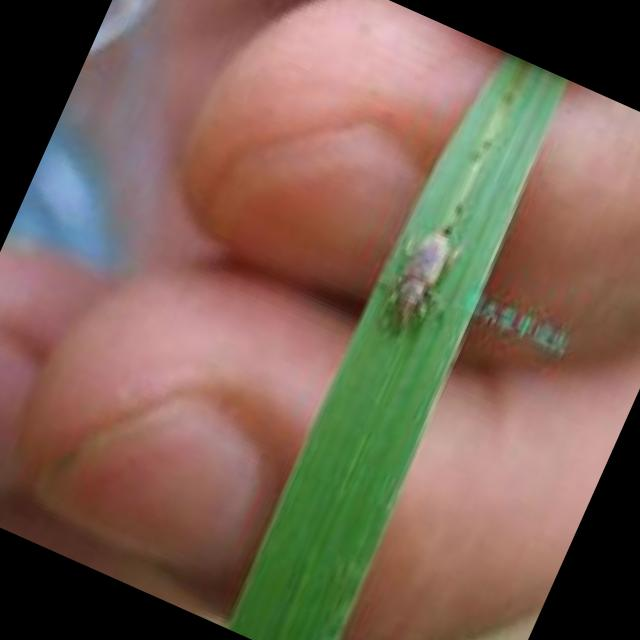rice-bug: (374, 216, 475, 342)
